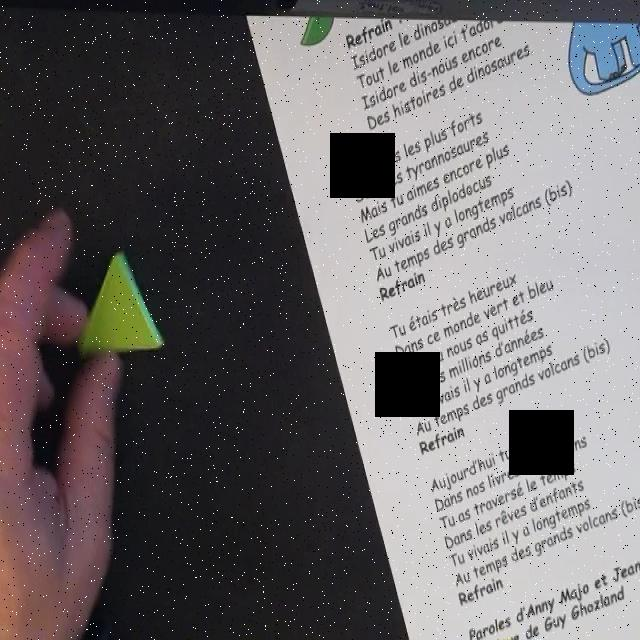triangle: (78, 250, 164, 354)
